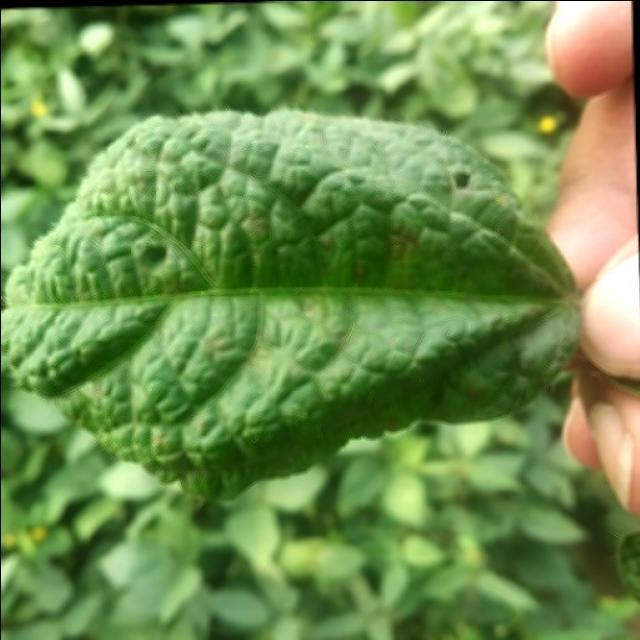leaves: (0, 18, 606, 546)
